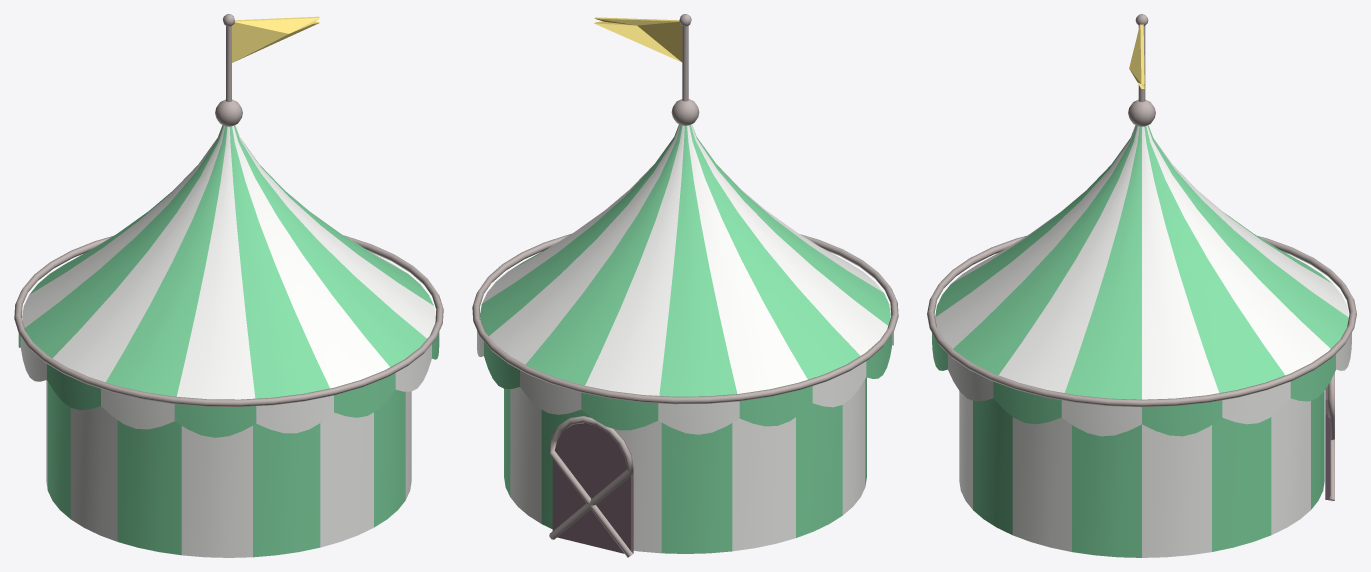
The model's file is ArrowAmbushTent.glb.
3 views of the same model, side by side, from view 1: azimuth 30°, elevation 25°; view 2: azimuth 150°, elevation 25°; view 3: azimuth 270°, elevation 25° (orthographic).
Parts seen in each view (by area): view 1: StripeA, StripeB, Trim, Flag; view 2: StripeB, StripeA, Trim, Inside, Flag; view 3: StripeA, StripeB, Trim, Flag, Inside.
Part boxes in pixels (box(x1,y1,x2,y2)): StripeA: box(18, 125, 439, 557); StripeB: box(20, 125, 435, 557); Trim: box(14, 14, 443, 406); Flag: box(232, 16, 319, 62); StripeB: box(477, 124, 893, 553); StripeA: box(480, 124, 892, 553); Trim: box(472, 14, 898, 557); Inside: box(552, 423, 633, 553); Flag: box(594, 17, 682, 62); StripeA: box(932, 125, 1348, 557); StripeB: box(935, 125, 1351, 557); Trim: box(927, 14, 1356, 501); Flag: box(1129, 24, 1144, 88); Inside: box(1325, 385, 1330, 499).
Size of the model in its own units: 8 by 9.62 by 8.
